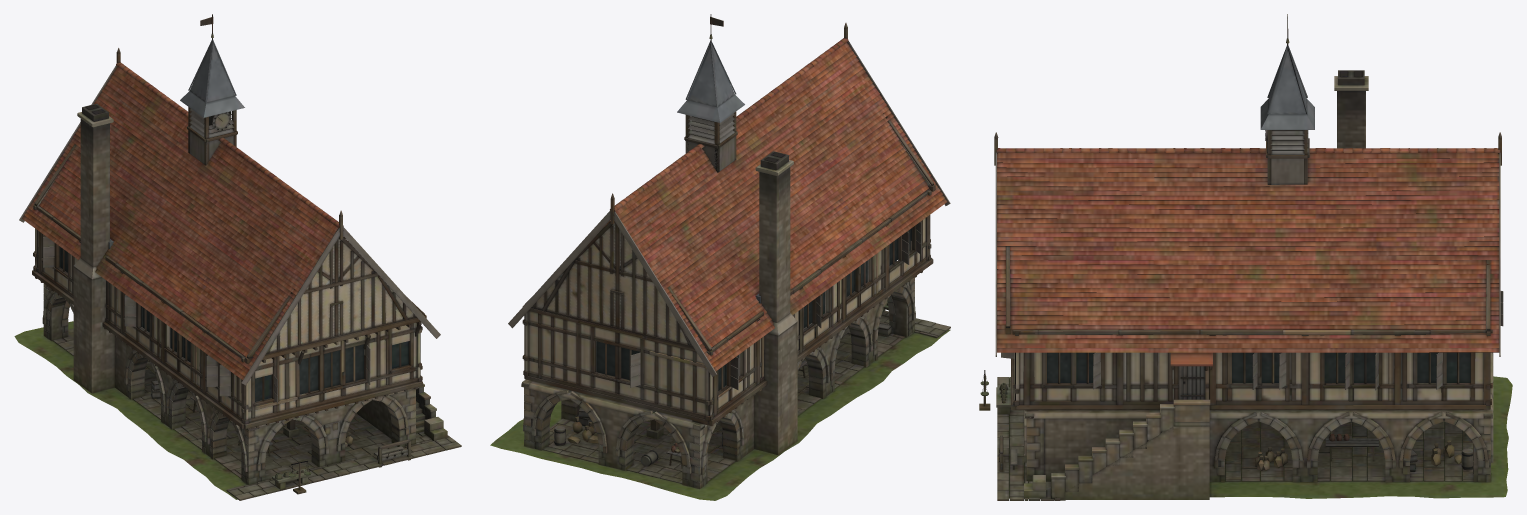
The model's file is guildhall.glb.
3 renders of one model, left to right at view 1: azimuth 30°, elevation 25°; view 2: azimuth 150°, elevation 25°; view 3: azimuth 270°, elevation 25°, orthographic. The views are drawn at different scales.
Visible parts, largest first — view 1: guildhall_LOD0; view 2: guildhall_LOD0; view 3: guildhall_LOD0.
Boxes of the visible parts, bbox=[...] form: guildhall_LOD0: bbox=[14, 14, 461, 500]; guildhall_LOD0: bbox=[490, 14, 950, 500]; guildhall_LOD0: bbox=[979, 14, 1512, 500].
Size of what is drawn, in the model's own units: 13.28 by 20.83 by 23.95.
Materials: 1 (1 with a texture image).
